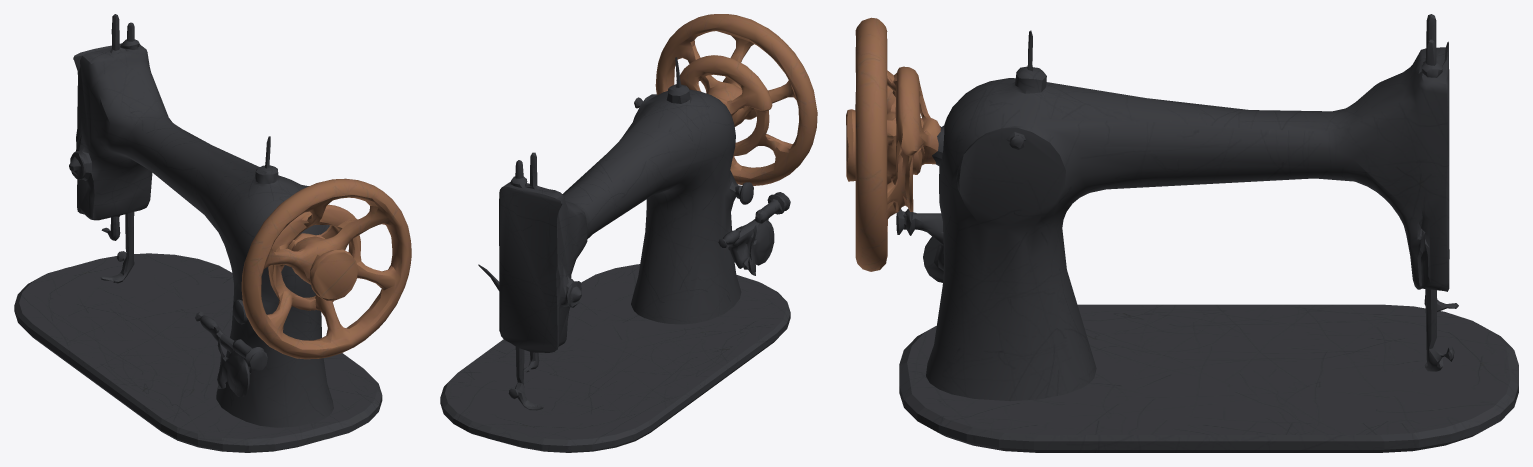
File: sew.glb
3 renders of one model, left to right at view 1: azimuth 30°, elevation 25°; view 2: azimuth 150°, elevation 25°; view 3: azimuth 270°, elevation 25°, orthographic. The views are drawn at different scales.
Visible parts, largest first — view 1: Retopo_singerSewingMachine.001; view 2: Retopo_singerSewingMachine.001; view 3: Retopo_singerSewingMachine.001.
Boxes of the visible parts, box(x1,y1,x2,y2) form: Retopo_singerSewingMachine.001: box(14, 14, 411, 452); Retopo_singerSewingMachine.001: box(440, 14, 817, 452); Retopo_singerSewingMachine.001: box(846, 14, 1518, 452).
Size of the model in its own units: 0.3615 by 0.4723 by 0.7685.
Materials: 2 (2 with a texture image).
